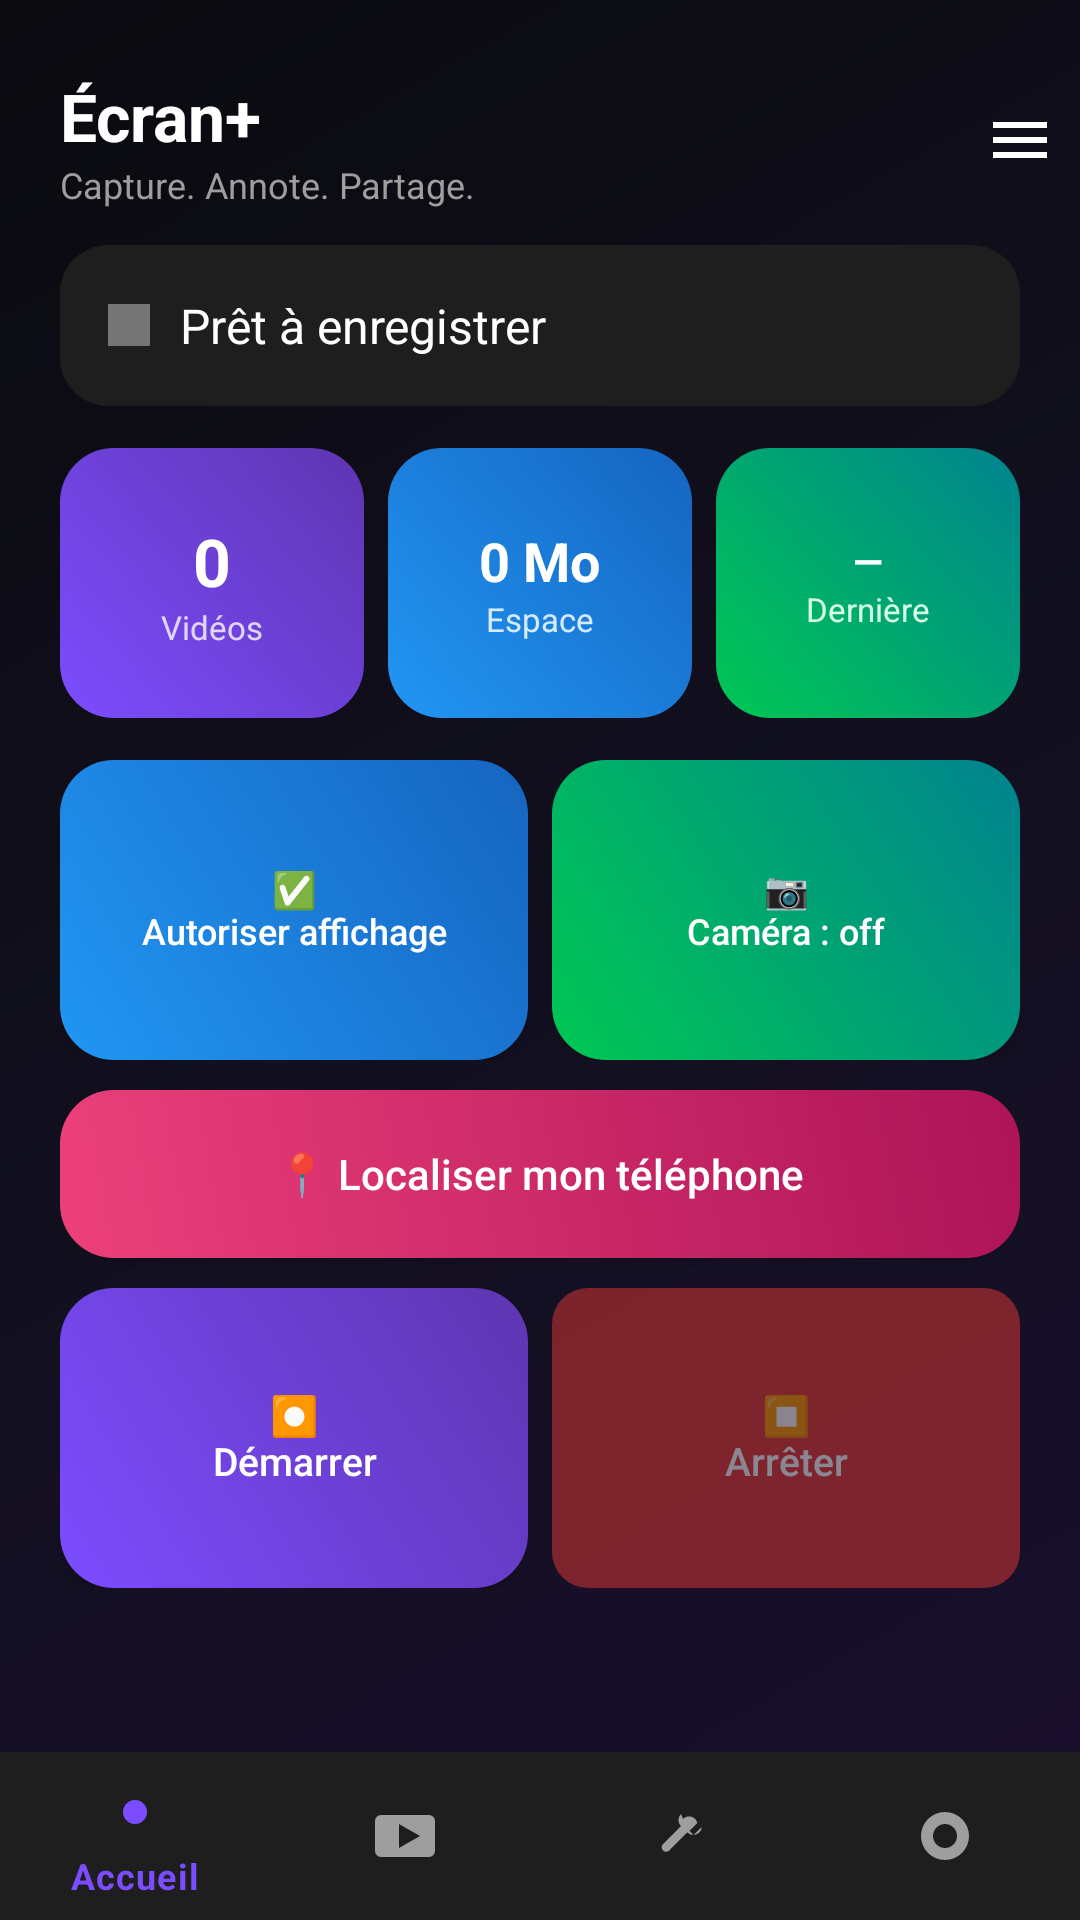

Icons on this 1080 x 1920 Android screen, each with its box as (x1, y1, x2, y2):
Menu: (993, 122, 1047, 158)
